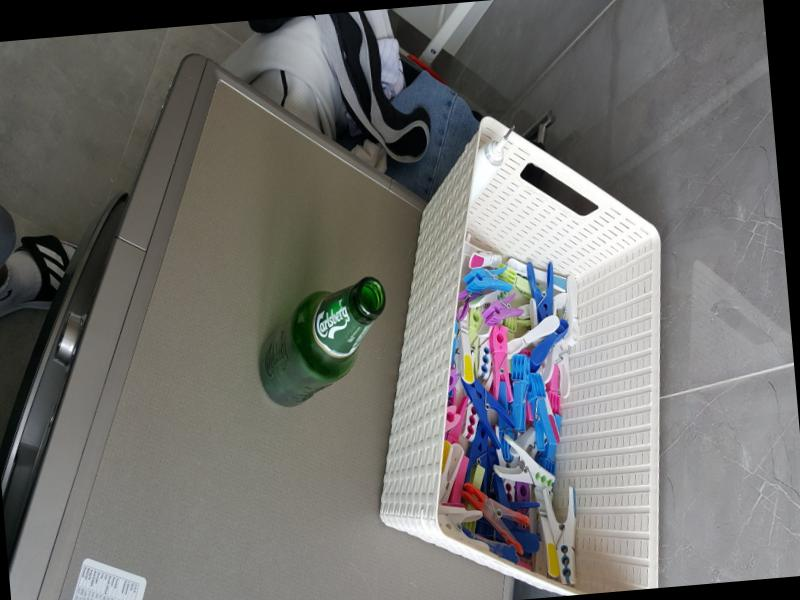Beer: (249, 274, 390, 406)
